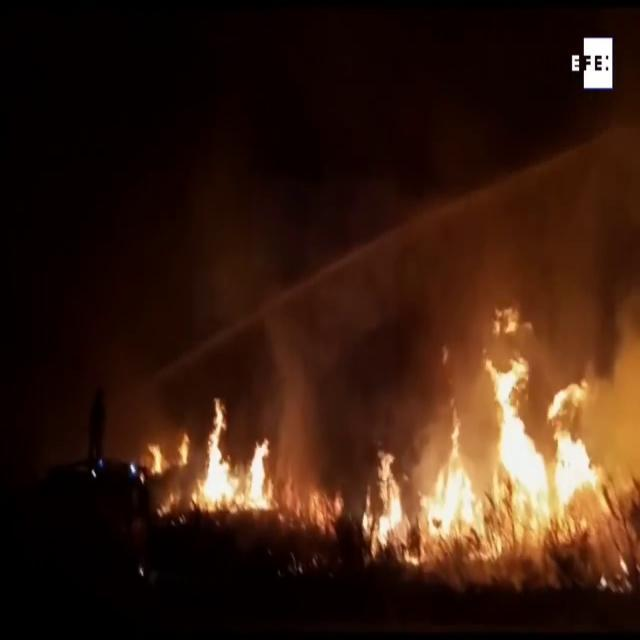Fire: (376, 316, 623, 570), (187, 398, 282, 522)
